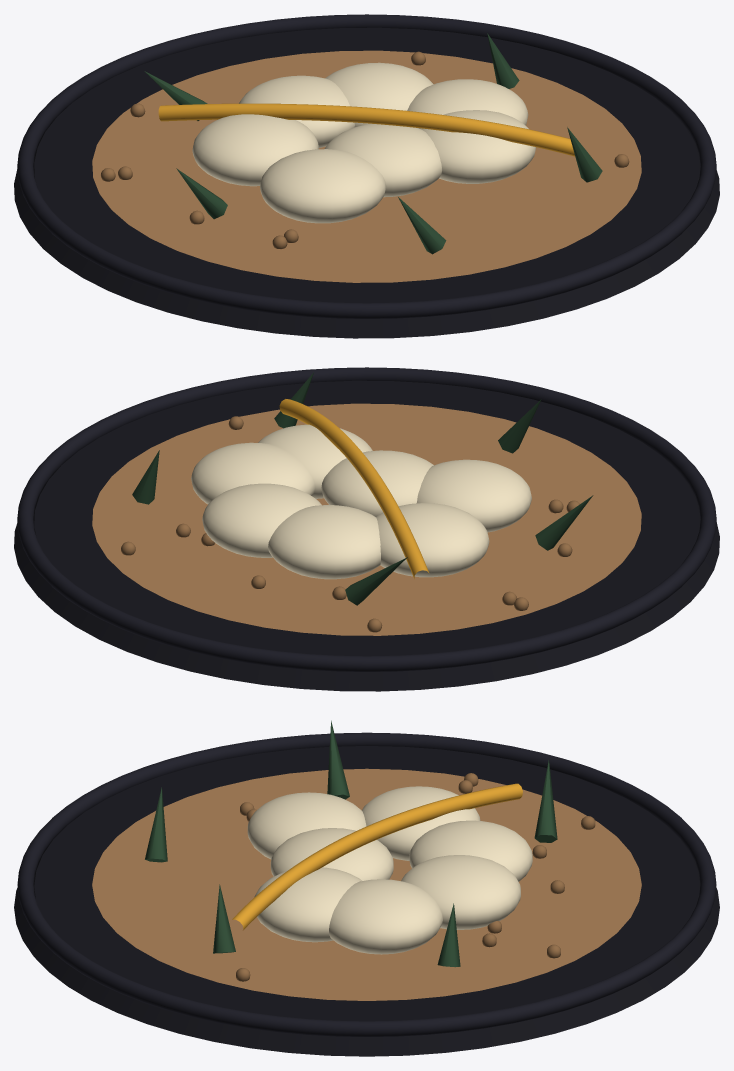
The model's file is ravioles-chevre-miel.glb.
The picture shows the model from 3 angles, top to bottom: view 1: azimuth 30°, elevation 25°; view 2: azimuth 150°, elevation 25°; view 3: azimuth 270°, elevation 25°; orthographic projection.
Size of the model in its own units: 0.21 by 0.0282 by 0.21.
